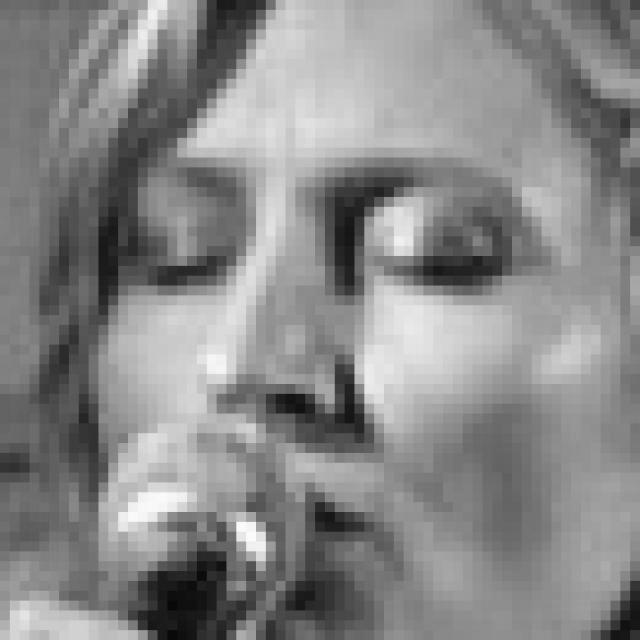real: (89, 0, 640, 640), (109, 180, 529, 312)
